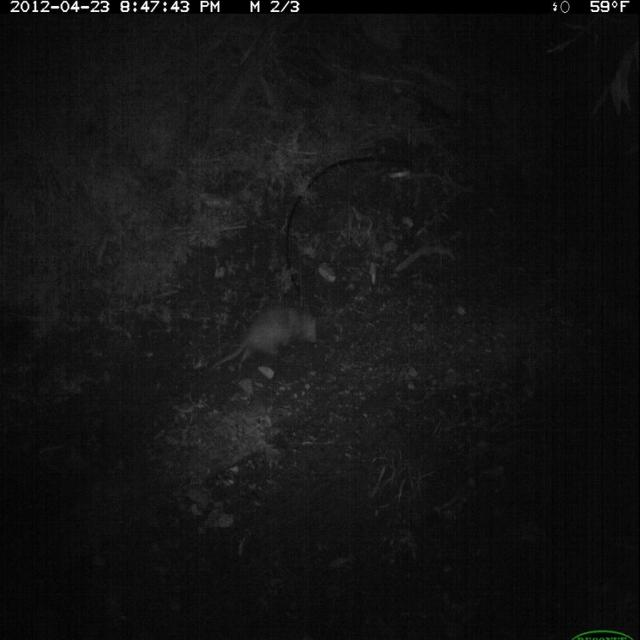opossum: (206, 300, 322, 385)
